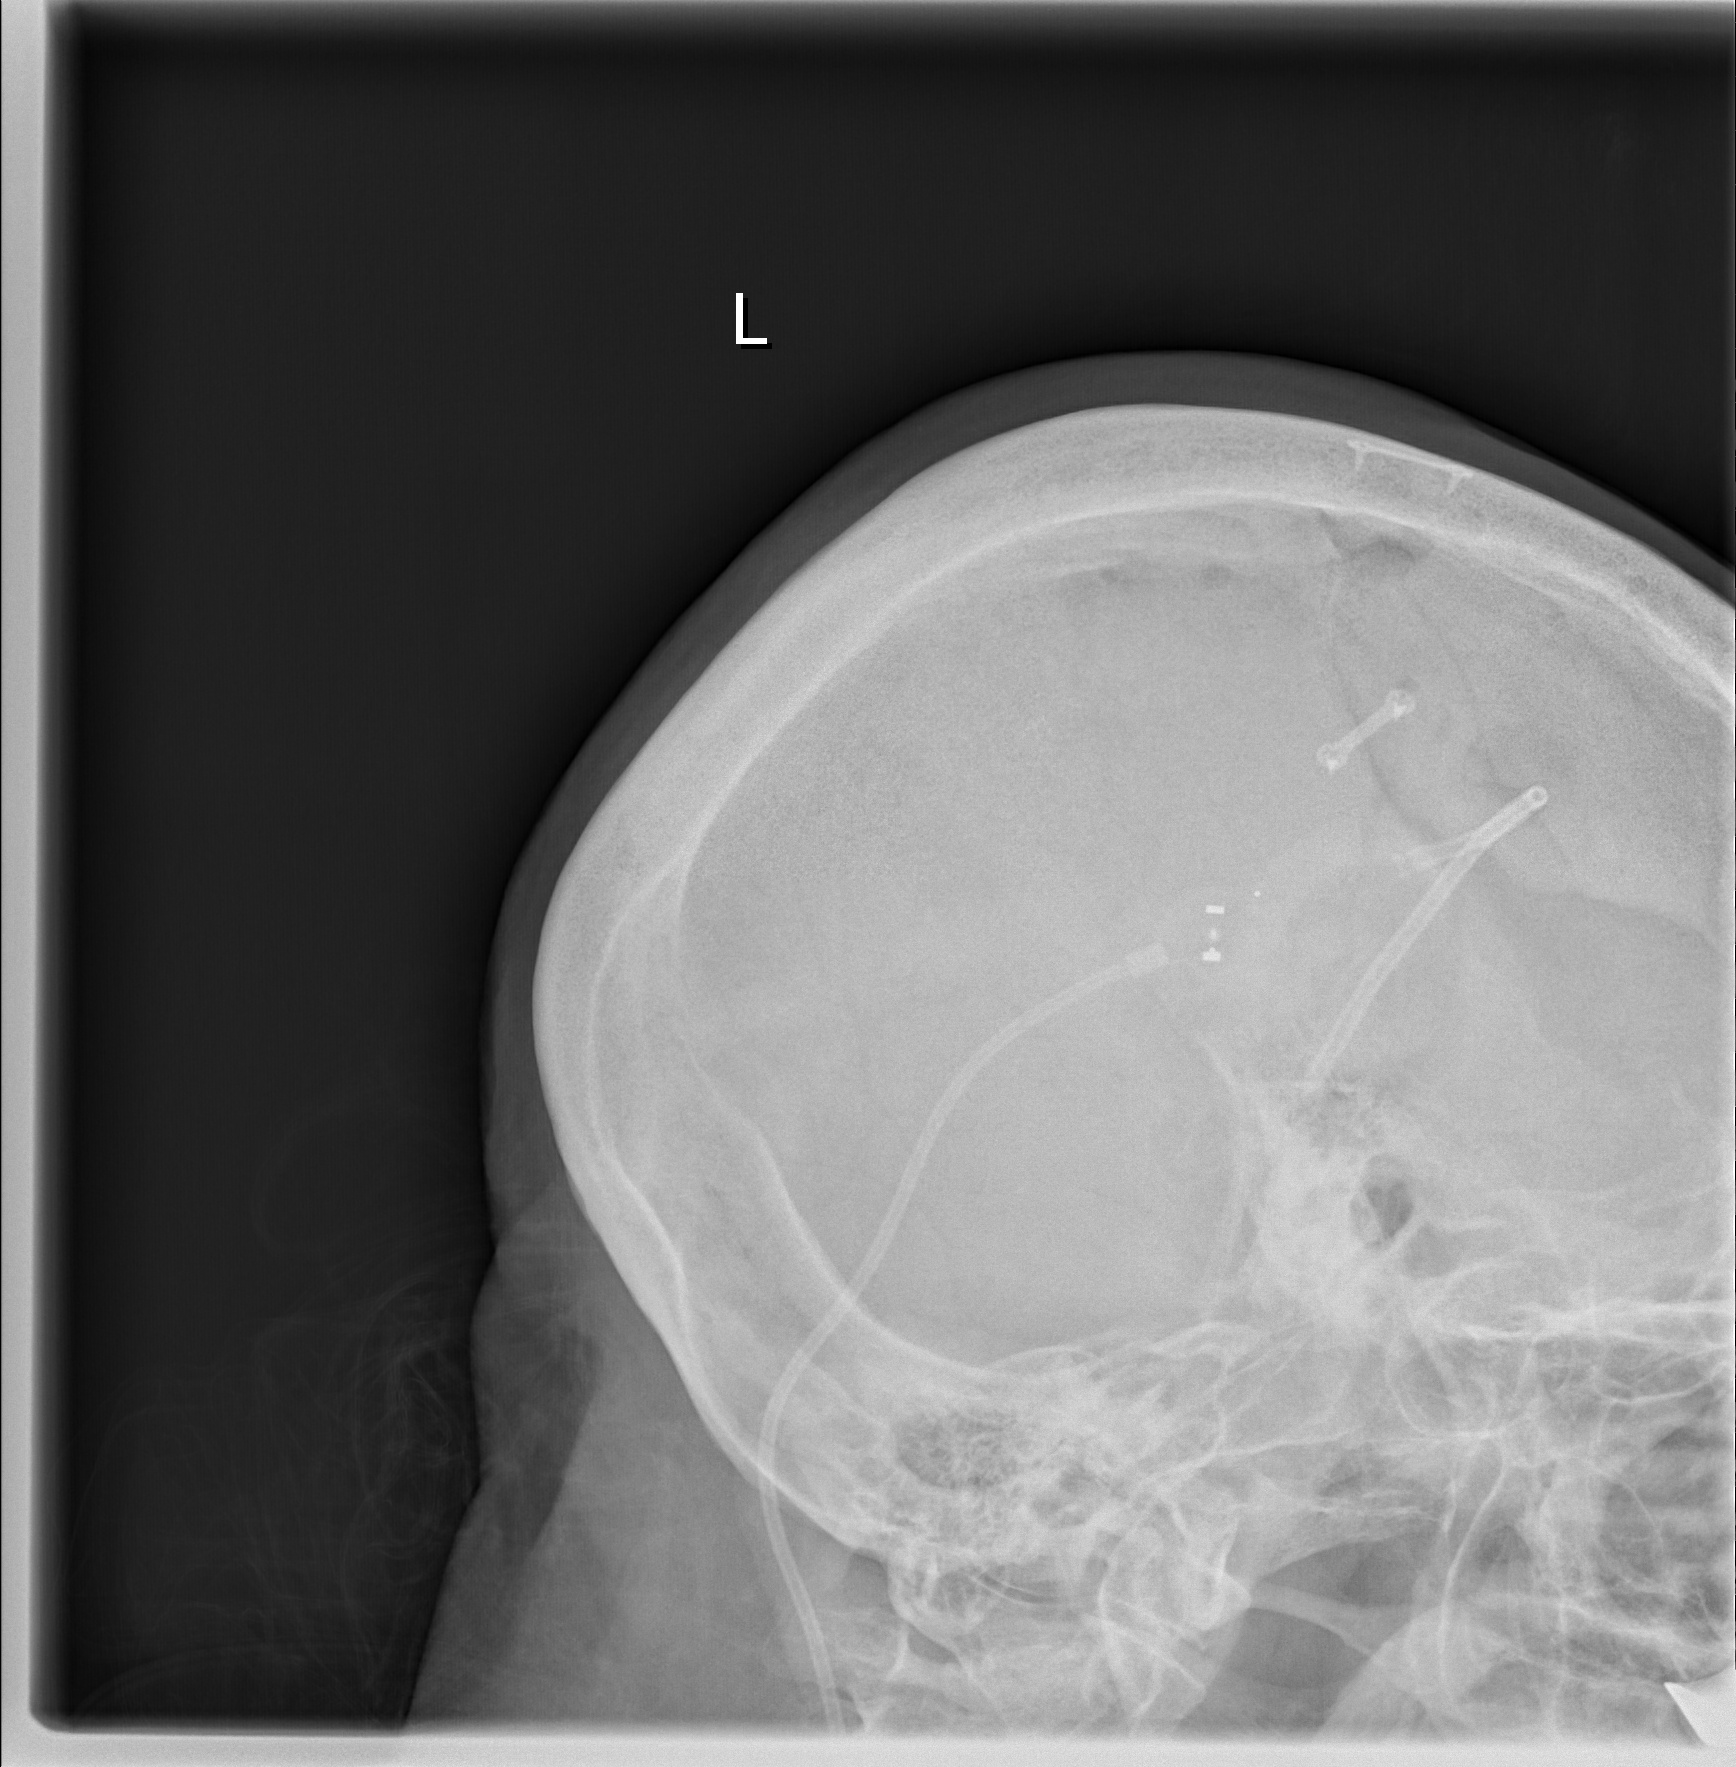Codman Certas: (1170, 879, 1277, 987)
